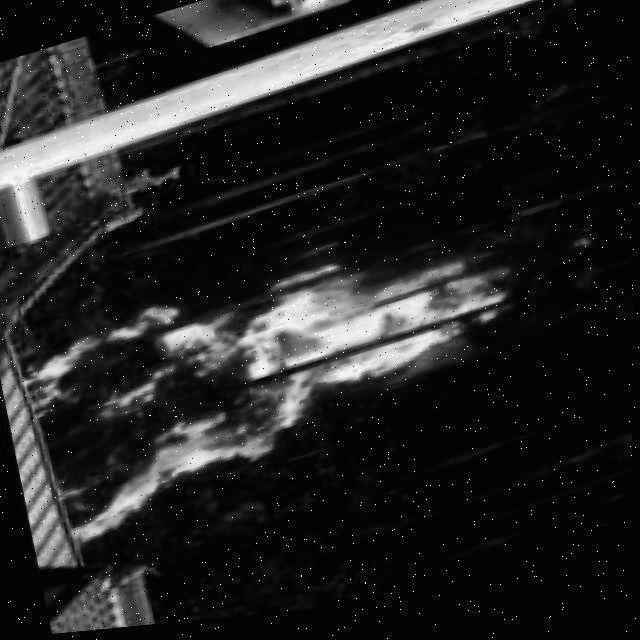Fire: (27, 209, 555, 532)
